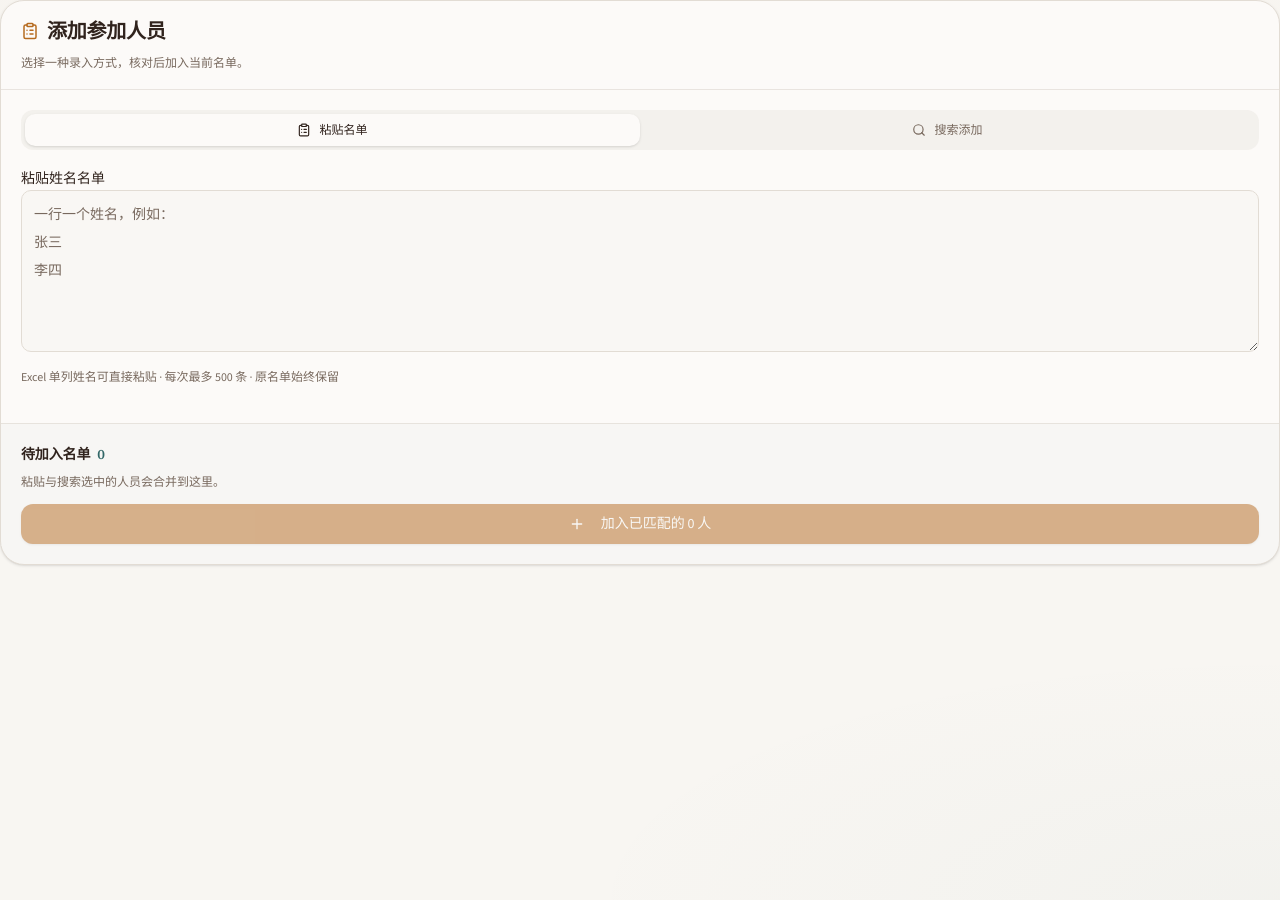
training paste and shared draft › keeps names and pending selection when a version conflict rejects saving
Type "张三" into the text box labelled "粘贴姓名名单" at (640, 271), box [21,190,1259,352]
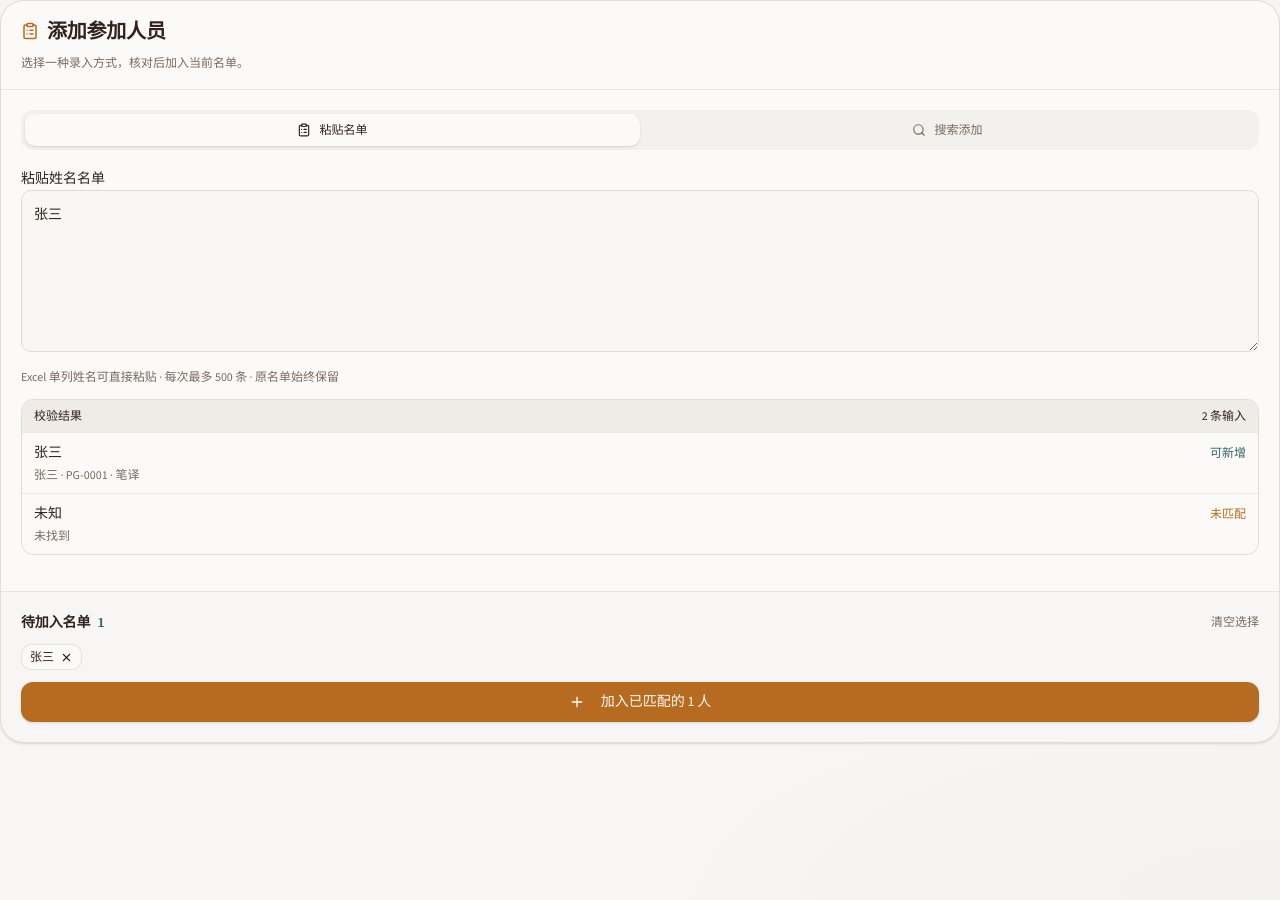
Expected: the text "可新增" is shown, [1210,445,1246,461]
Click the button "加入已匹配的 1 人" at (640, 702), box [21,682,1259,722]
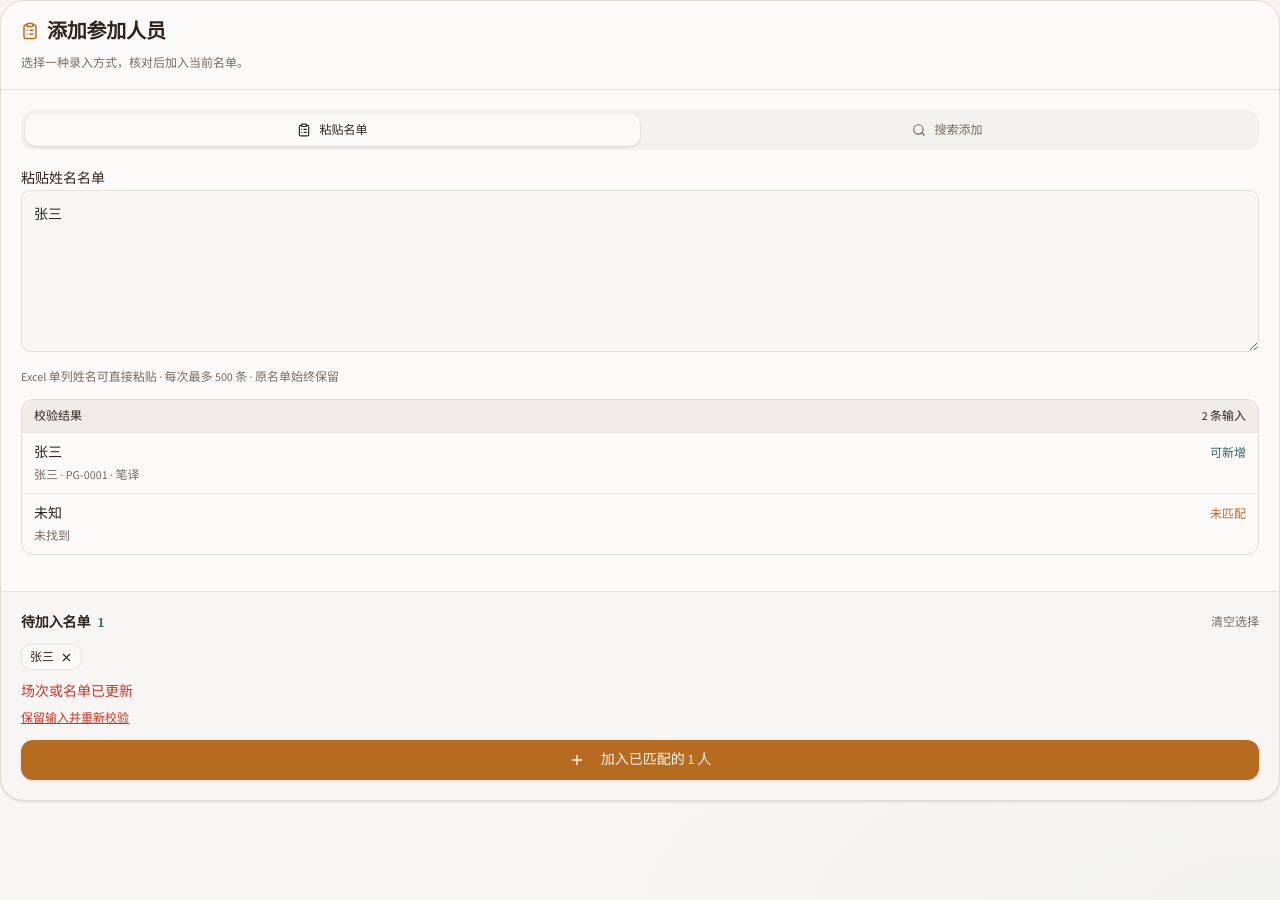
Expected: the button "加入已匹配的 1 人" is enabled, [21,740,1259,780]
Expected: the text "场次或名单已更新" is shown, [21,682,133,701]
